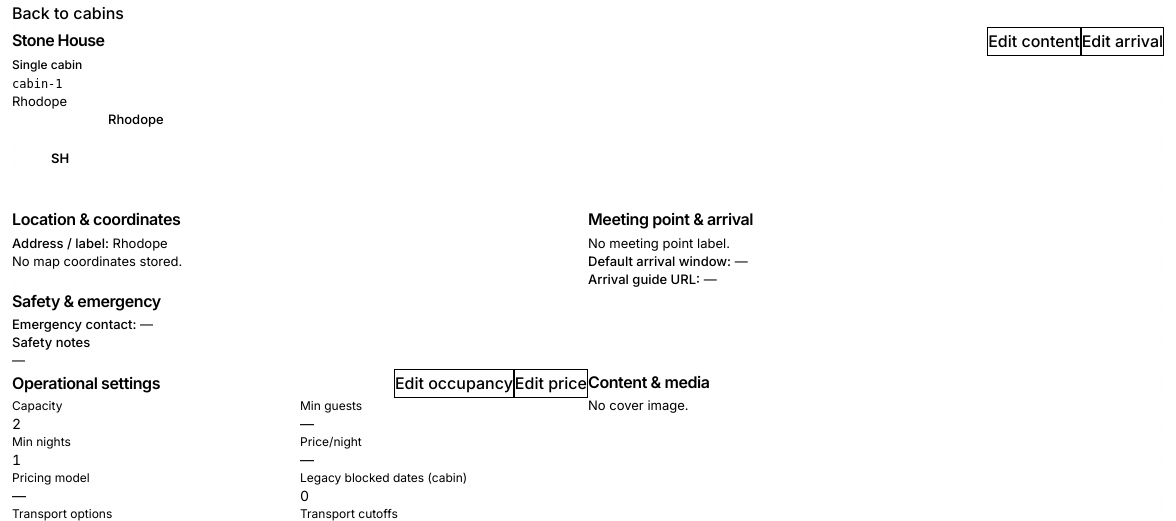
Scenario: OpsCabinDetail migration › retains content edit open with section error when write fails
Click the button "Edit content" at (1034, 42), box [987,27,1081,56]
(page scrolled)
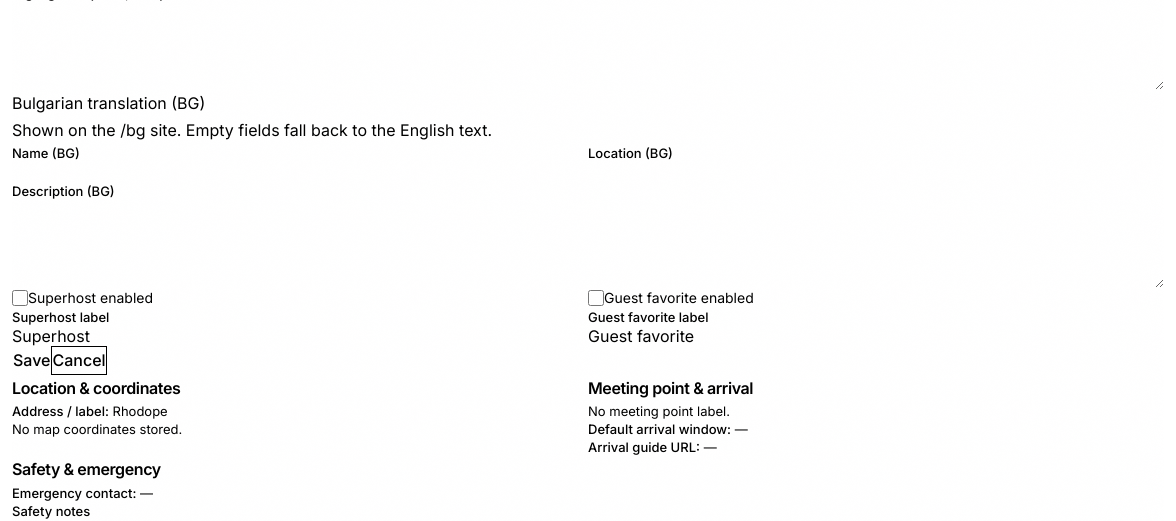
Click the button "Save" at (32, 360), box [12,346,52,375]
(page scrolled)
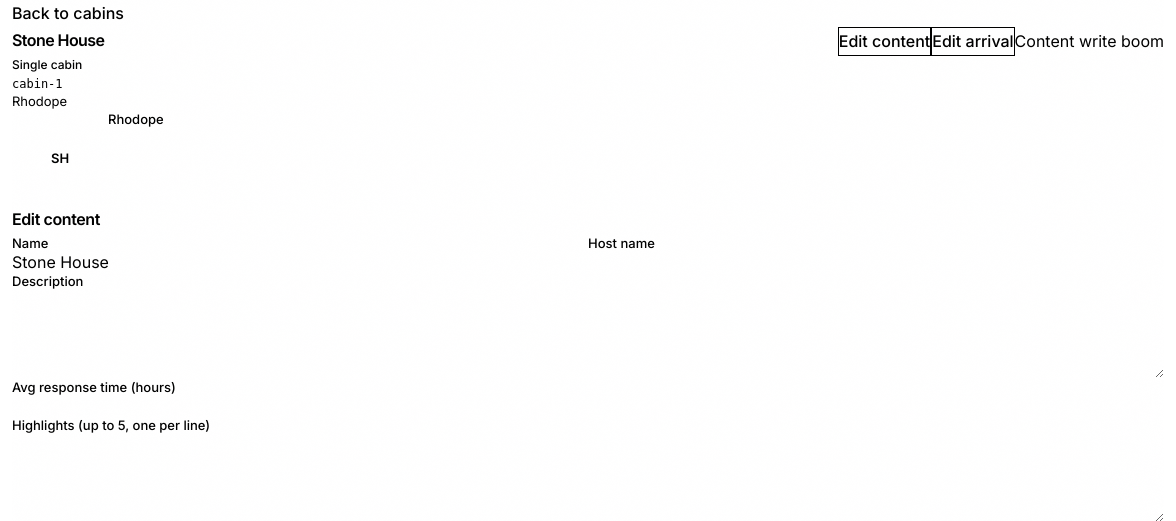
Now the heading "Edit content" is shown, box [12,206,100,234]
Now the field showing "Stone House" is shown, box [12,252,588,272]
Now the text "Content write boom" is shown, box [1015,28,1164,55]
